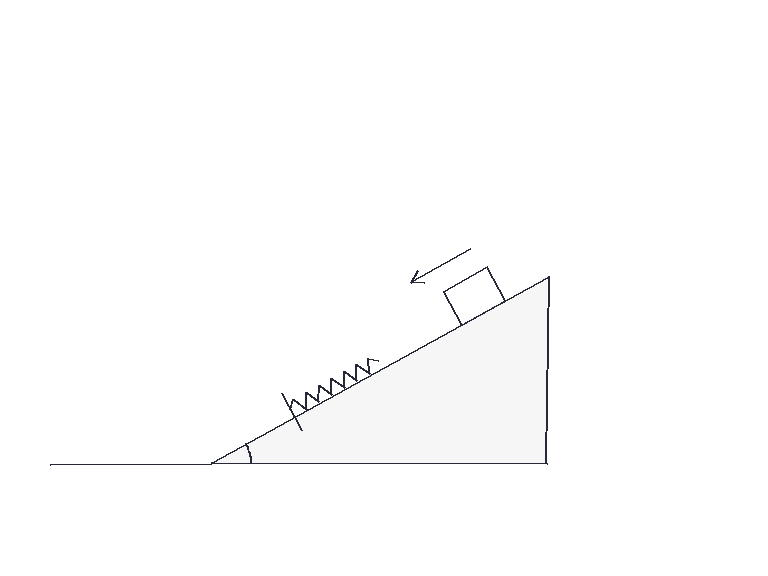block: (440, 265, 507, 327)
ramp: (209, 275, 549, 465)
spring: (289, 356, 380, 411)
